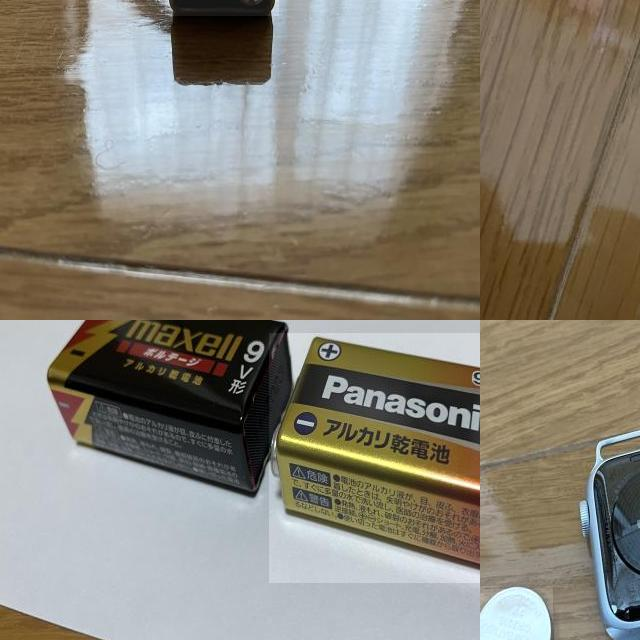9V: (269, 333, 480, 582), (44, 320, 294, 495)
